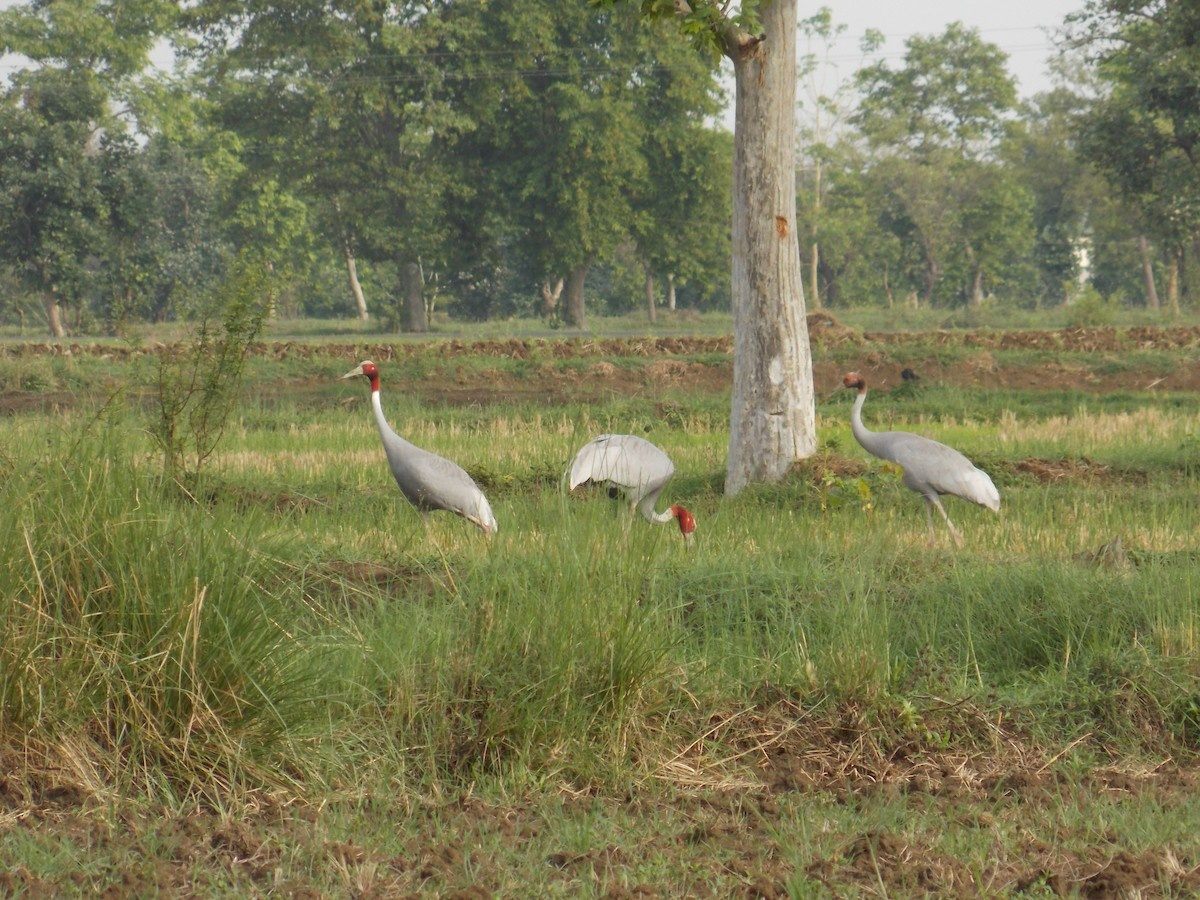crane: (329, 350, 512, 547), (822, 371, 1001, 549), (565, 425, 724, 562)
